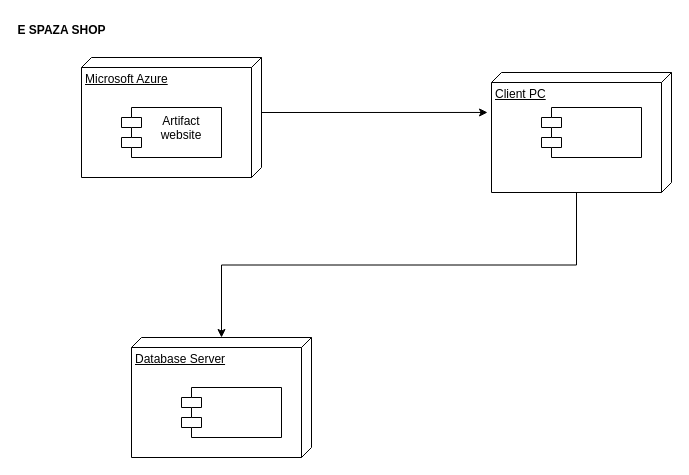
Image size: 689x475. Some labels were removed from this diagram. Each missing label, with the centre of its shape:
"Firebase RealTime Server" belongs at point (231, 412).
"Web Browser <Html>" belongs at point (591, 132).
